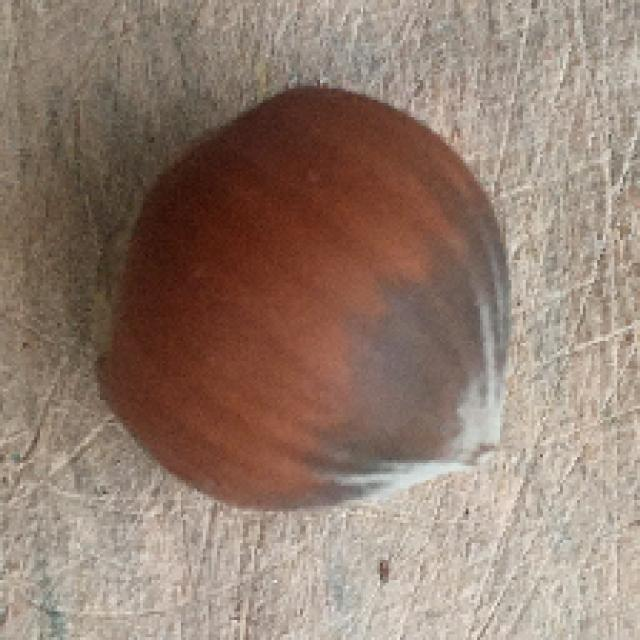damagedHazelnut: (90, 82, 521, 522)
